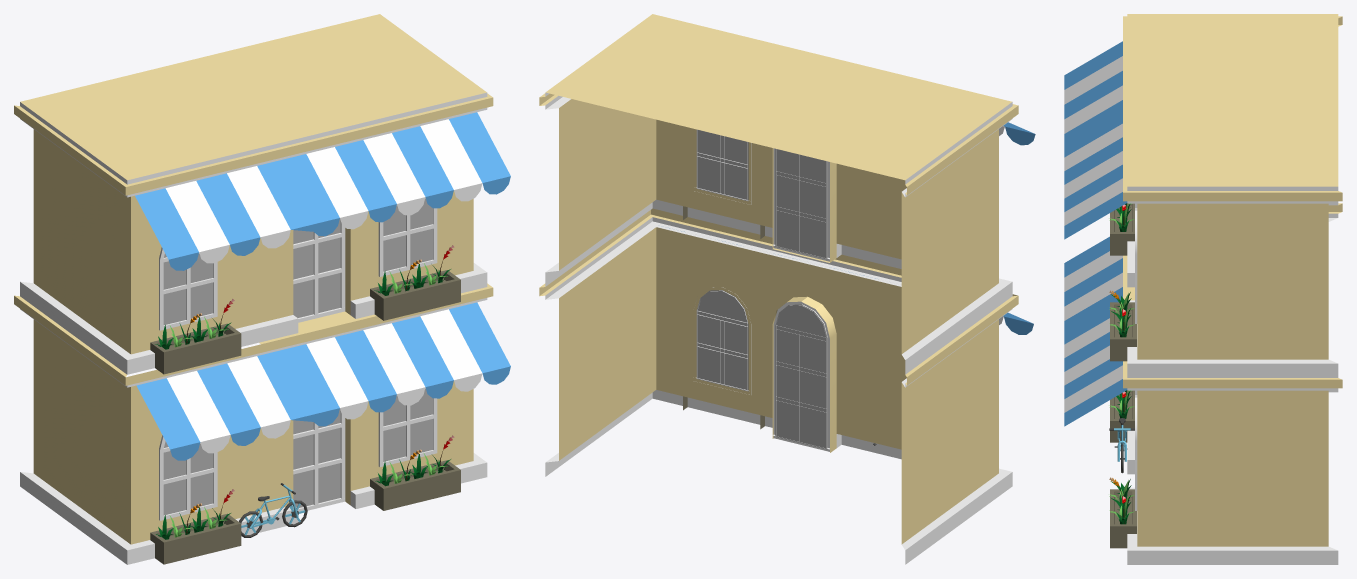
The model's file is building_7.fbx.
The picture shows the model from 3 angles, left to right: view 1: azimuth 30°, elevation 25°; view 2: azimuth 150°, elevation 25°; view 3: azimuth 270°, elevation 25°; orthographic projection.
Parts seen in each view (by area): view 1: building_7; view 2: building_7; view 3: building_7.
Part boxes in pixels (<box>): building_7: <box>14,14,510,564</box>; building_7: <box>539,14,1035,564</box>; building_7: <box>1064,14,1342,564</box>.
Bounding box in the file's own units: 689 × 690 × 460.
1 material, 1 textured.
